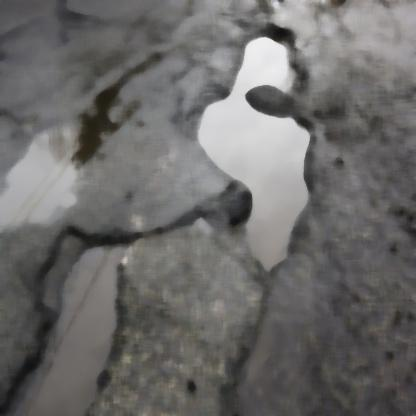Potholes: (195, 27, 323, 273), (27, 238, 129, 415), (6, 110, 88, 214)
